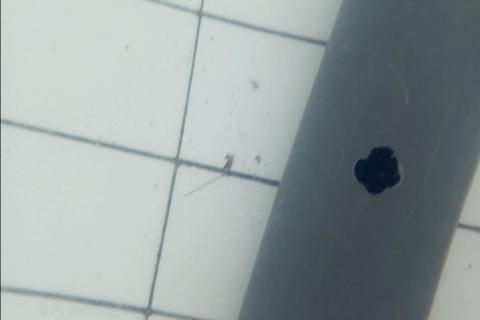kebocoran: (351, 143, 403, 198)
